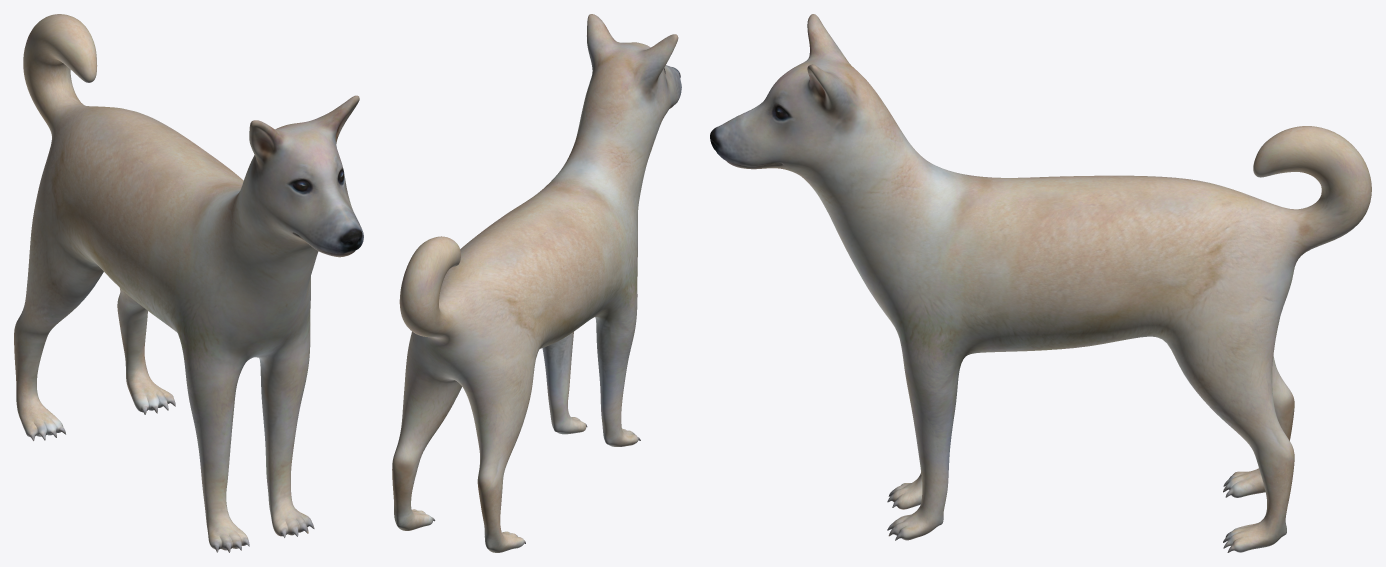
Rendered from Dog.glb.
3 views of the same model, side by side, from view 1: azimuth 30°, elevation 25°; view 2: azimuth 150°, elevation 25°; view 3: azimuth 270°, elevation 25° (orthographic). The views are drawn at different scales.
Parts seen in each view (by area): view 1: 13466_Canaan_Dog_v1_L3; view 2: 13466_Canaan_Dog_v1_L3; view 3: 13466_Canaan_Dog_v1_L3.
Part boxes in pixels (x1,y1,x2,y2): 13466_Canaan_Dog_v1_L3: [14, 14, 363, 552]; 13466_Canaan_Dog_v1_L3: [392, 14, 681, 552]; 13466_Canaan_Dog_v1_L3: [710, 14, 1371, 552].
Bounding box in the file's own units: 11.51 × 34.92 × 43.75.
Materials: 1 (1 with a texture image).
